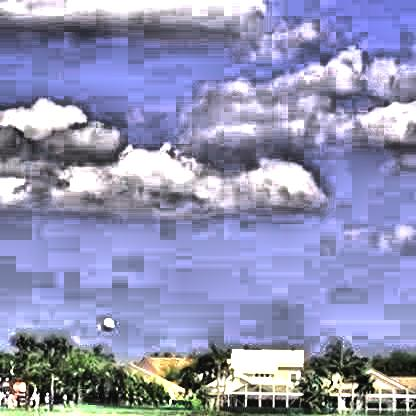golfball: (99, 315, 111, 328)
